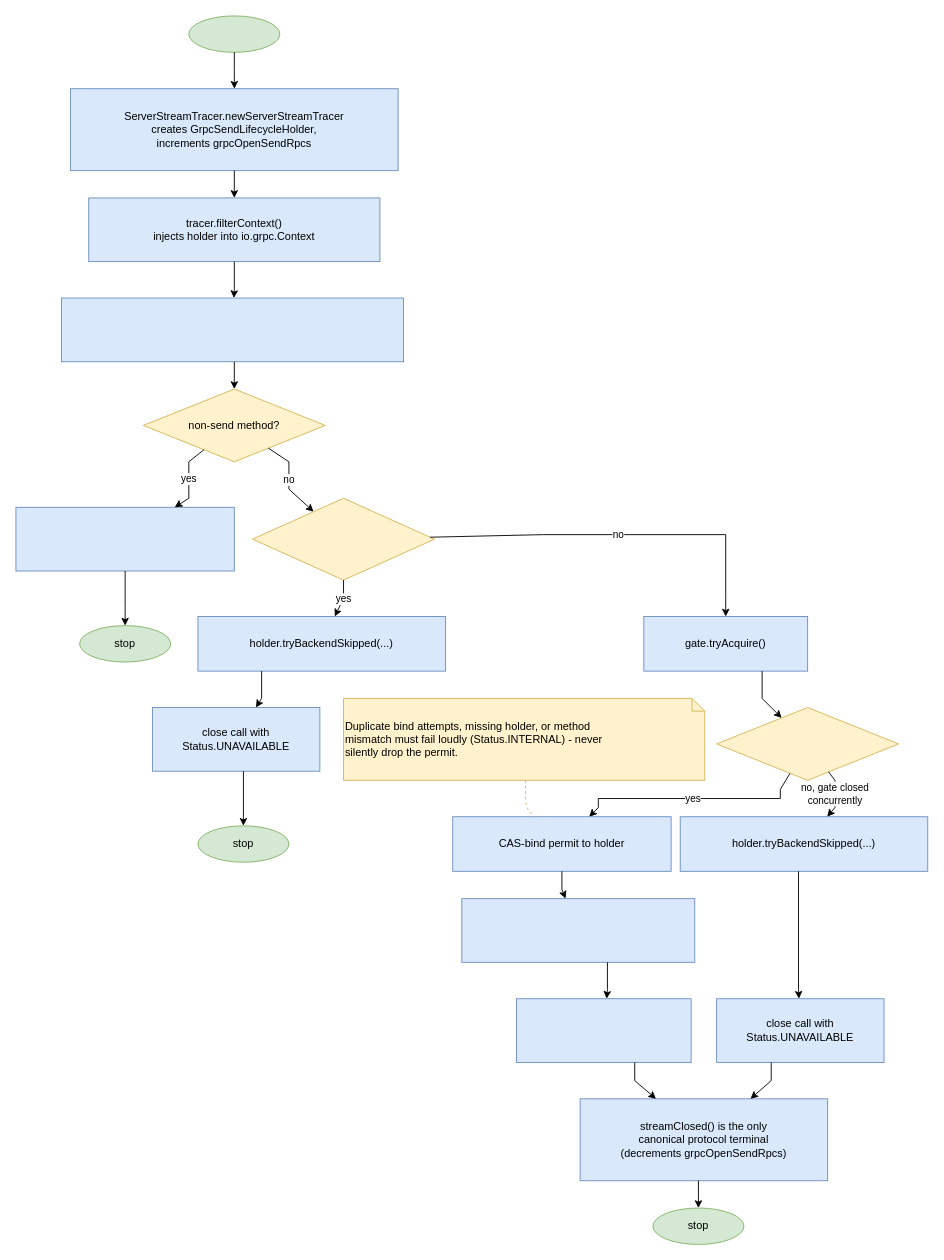
Image size: 944x1260. Some labels were removed from this diagram. The shapes that lost their labels are listed below. From the top down, each one's box as (x1, y1, x2, y2) in pixels, then its label:
(188, 15, 280, 52): start
(61, 297, 404, 362): GrpcSendLifecycleInterceptor.interceptCall reads holder from Context
(15, 506, 234, 571): next.startCall() directly (no gate interaction)
(252, 497, 435, 580): transport marked late (after lbCutoff) OR gate already CLOSED?
(716, 707, 899, 780): permit acquired?
(461, 898, 695, 962): next.startCall() -> handler -> Broker dispatch
(516, 998, 691, 1062): Future completes -> backendTerminal()
